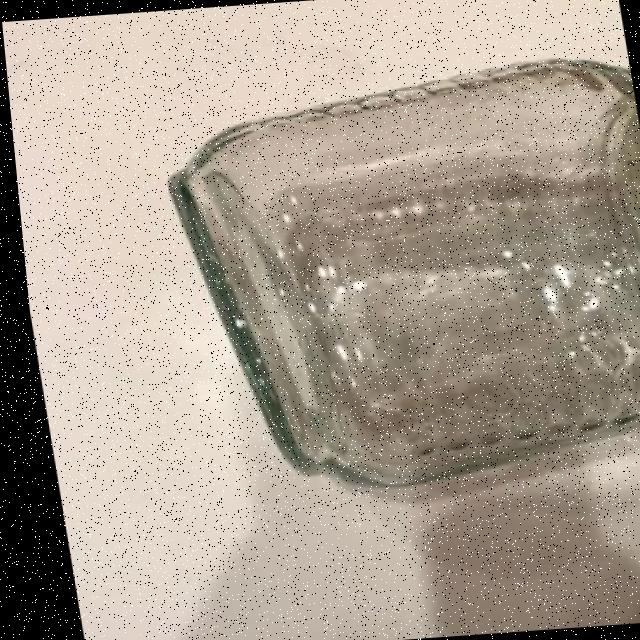glass: (131, 48, 640, 507)
